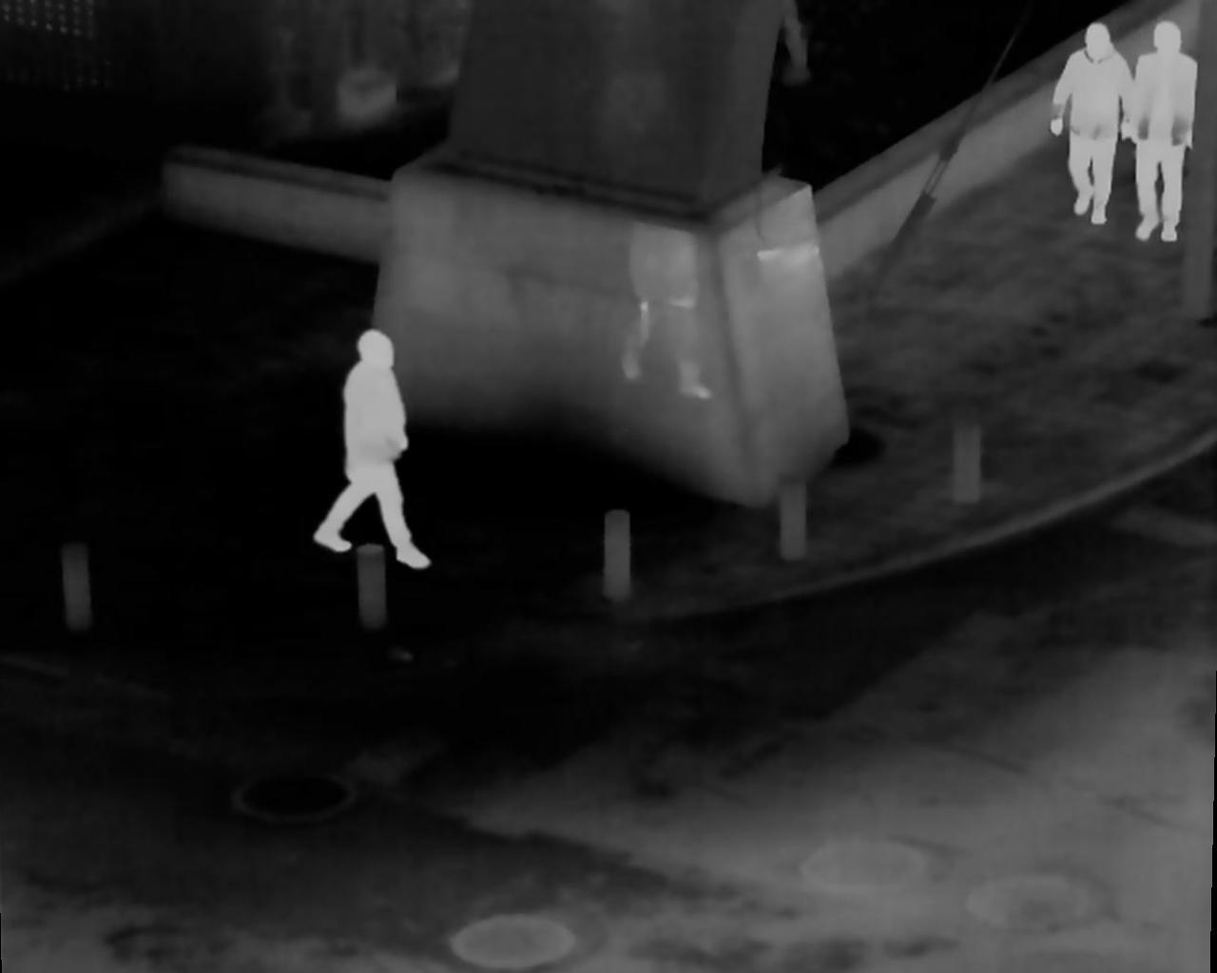person: (342, 326, 440, 589), (1131, 6, 1213, 254), (1037, 13, 1130, 222)
